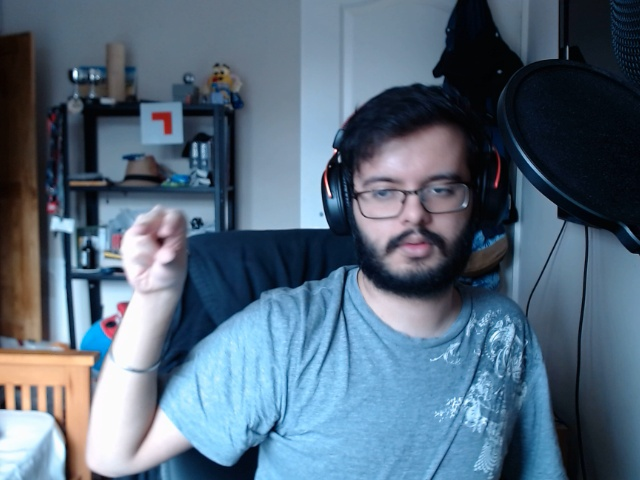No: (103, 197, 206, 308)
